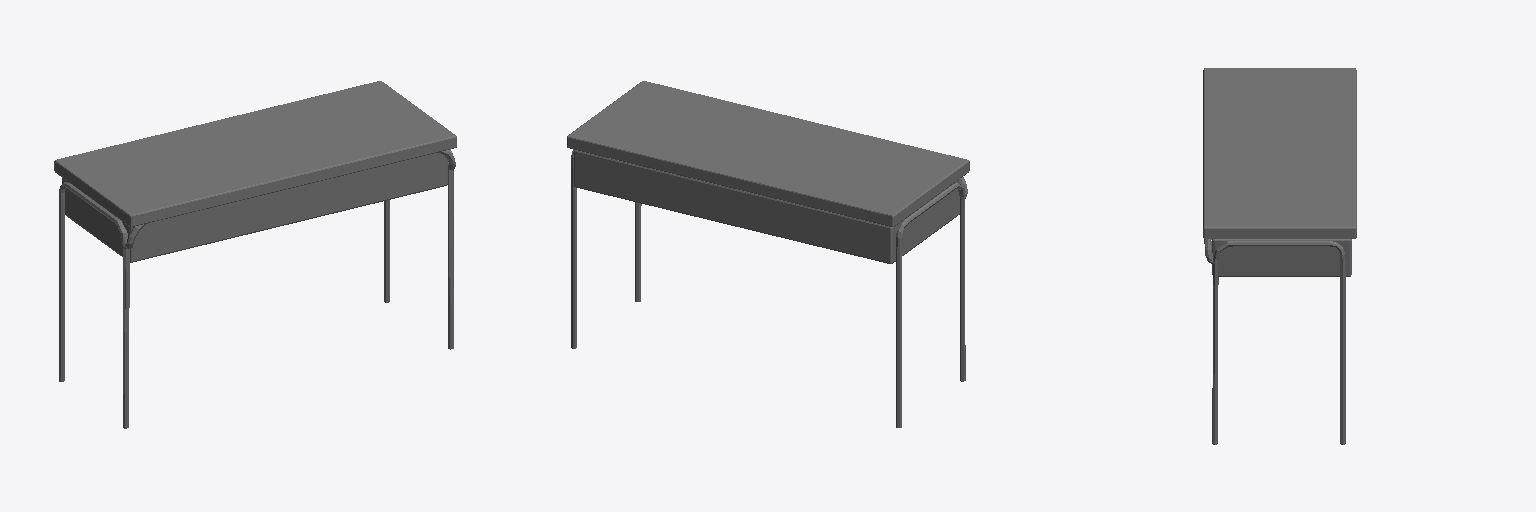
File: Meja.obj
3 views of the same model, side by side, from view 1: azimuth 30°, elevation 25°; view 2: azimuth 150°, elevation 25°; view 3: azimuth 270°, elevation 25° (orthographic).
Visible parts, largest first — view 1: pCube18, pCube4, pCylinder20, pCylinder22; view 2: pCube18, pCube4, pCylinder20, pCylinder22; view 3: pCube18, pCube4, pCylinder22.
Part boxes in pixels (x1,y1,x2,y2): pCube18: (54,81,456,226); pCube4: (62,153,447,262); pCylinder20: (59,182,147,428); pCylinder22: (384,149,455,349); pCube18: (567,81,969,226); pCube4: (574,150,959,263); pCylinder20: (896,177,967,427); pCylinder22: (571,149,641,348); pCube18: (1203,68,1356,238); pCube4: (1212,239,1351,276); pCylinder22: (1204,239,1345,444).
Bounding box in the file's own units: 6.06 × 3.79 × 2.43.